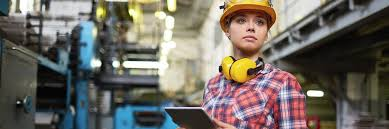Person_wearing_helmet: (217, 0, 277, 33)
